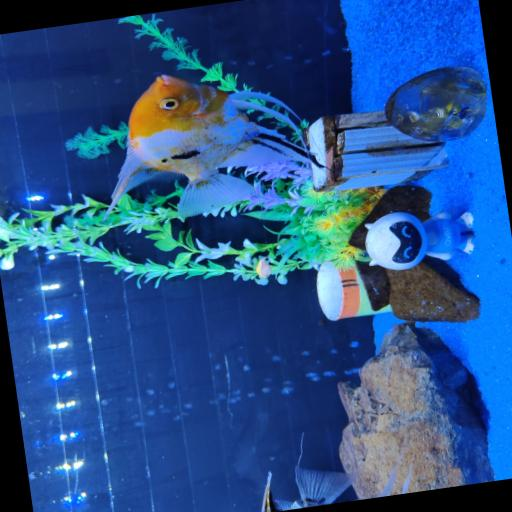Fish: (106, 75, 309, 217), (262, 466, 355, 511), (256, 256, 271, 278)
